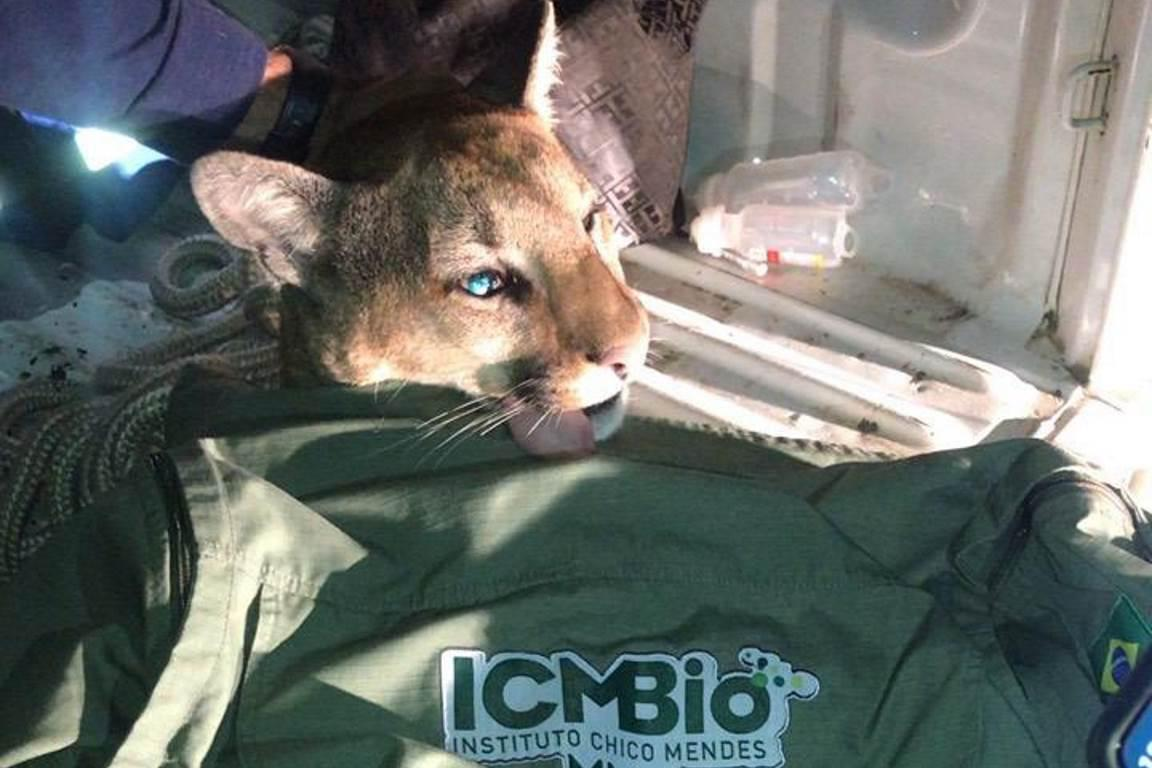OncaParda: (200, 102, 660, 469)
